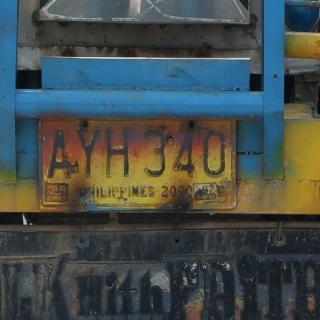license: (40, 120, 237, 213)
